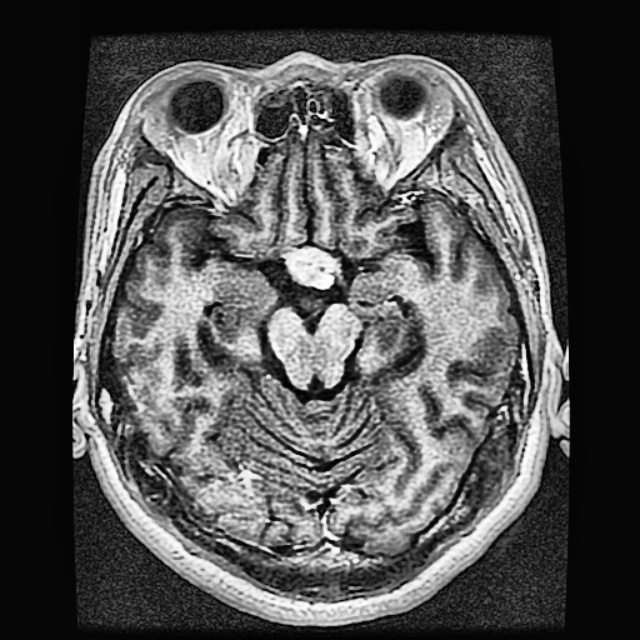Pituitary: (283, 244, 339, 288)
